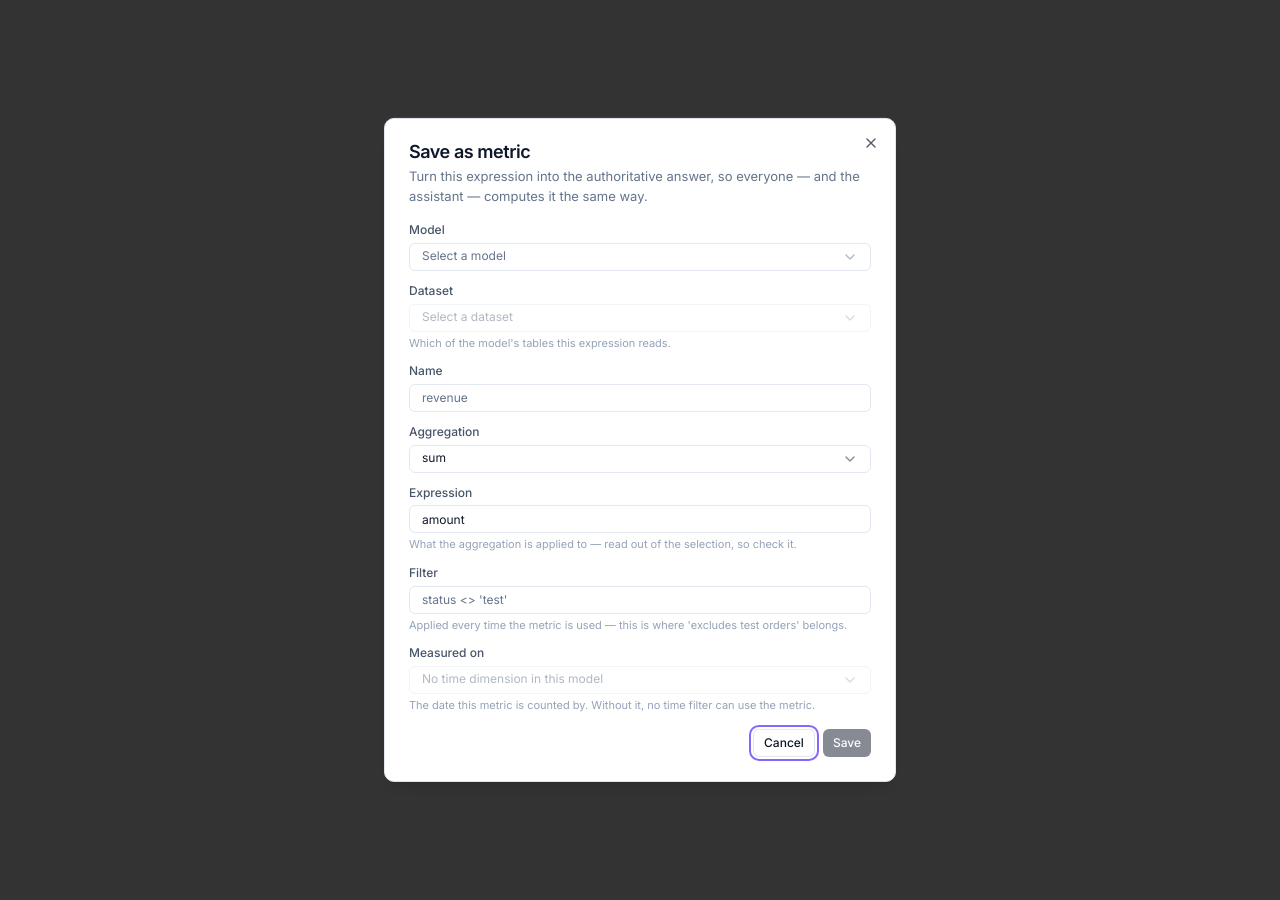
Test: SaveAsMetricDialog › offers only models that are edited here
Click the dropdown labelled "model". click: [464, 256]
box: [409, 243, 871, 271]
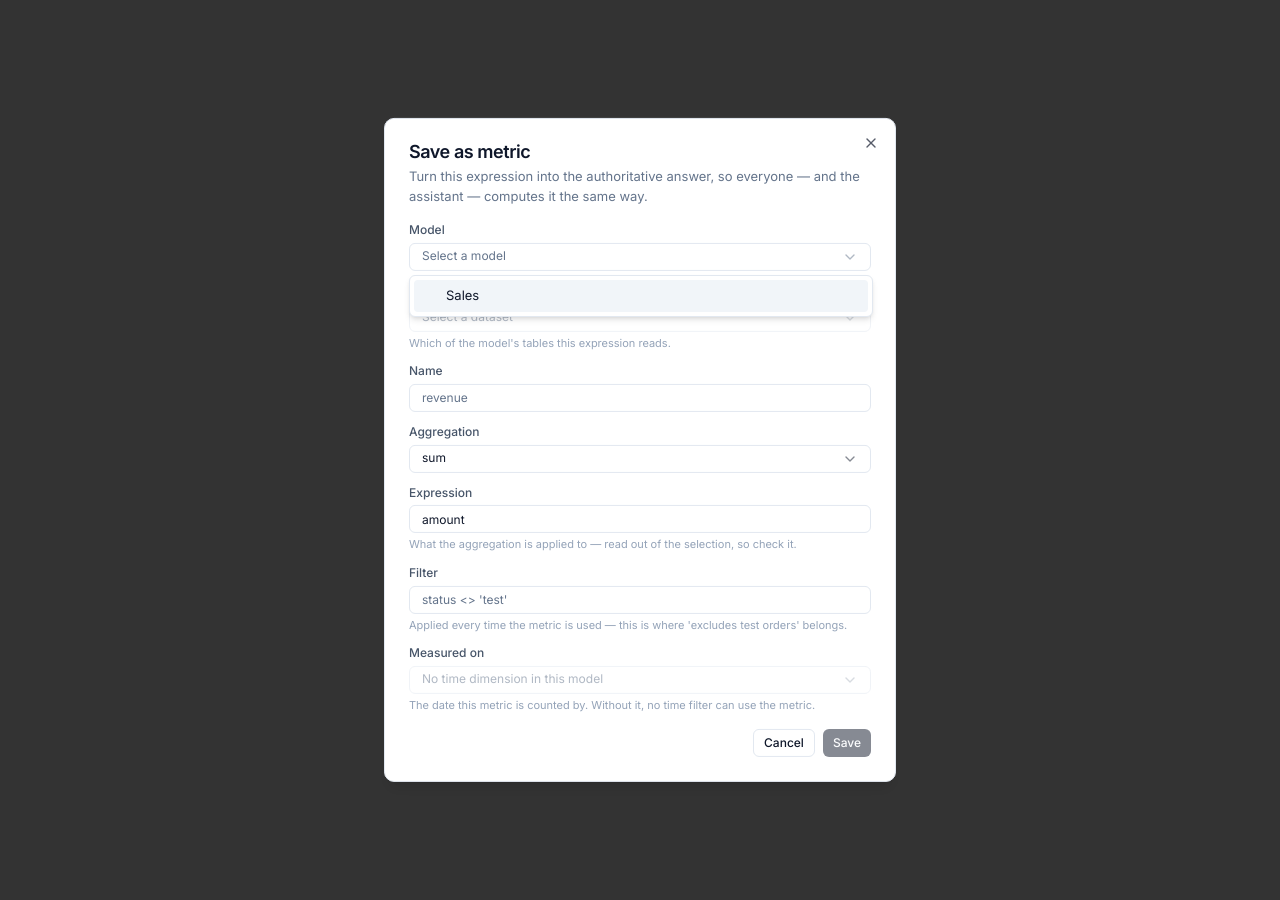
Expected: the option "Sales" is shown, [414, 280, 868, 312]
